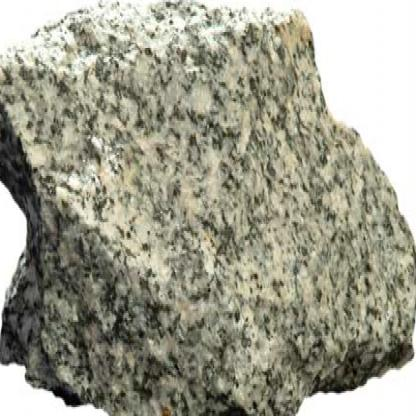Igneous_Diorite: (40, 73, 244, 375)
